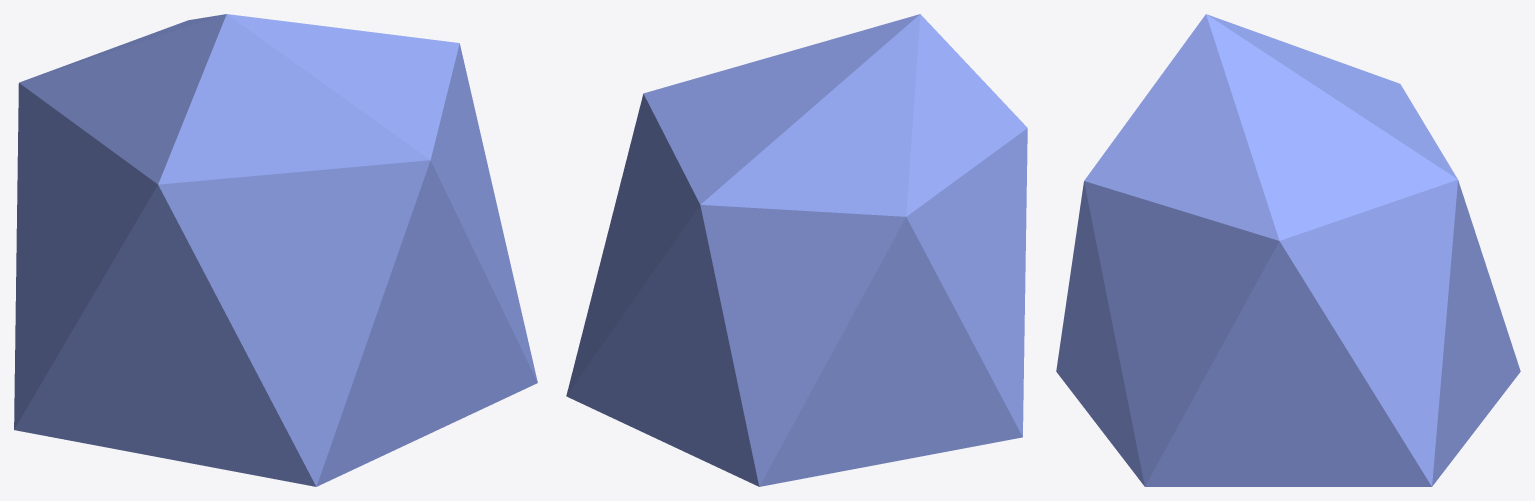
The model's file is rock.fbx.
3 views of the same model, side by side, from view 1: azimuth 30°, elevation 25°; view 2: azimuth 150°, elevation 25°; view 3: azimuth 270°, elevation 25° (orthographic). The views are drawn at different scales.
Visible parts, largest first — view 1: Icosphere.009; view 2: Icosphere.009; view 3: Icosphere.009.
Boxes of the visible parts, x1,y1,x2,y2 form: Icosphere.009: (14,14,537,486); Icosphere.009: (566,14,1027,486); Icosphere.009: (1056,14,1520,486).
Size of the model in its own units: 18.65 by 17.74 by 15.78.
